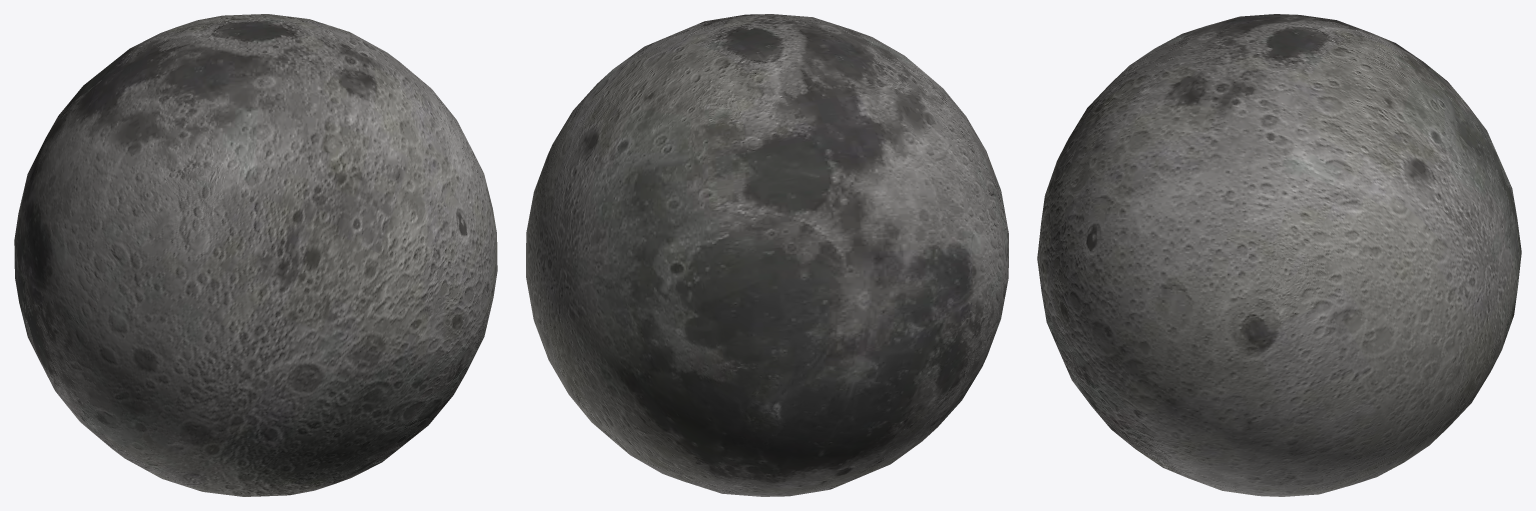
The model's file is moon_planet.glb.
3 views of the same model, side by side, from view 1: azimuth 30°, elevation 25°; view 2: azimuth 150°, elevation 25°; view 3: azimuth 270°, elevation 25° (orthographic).
Parts seen in each view (by area): view 1: Moon; view 2: Moon; view 3: Moon.
Part boxes in pixels (box(x1,y1,x2,y2)): Moon: box(14, 14, 497, 496); Moon: box(526, 14, 1008, 496); Moon: box(1037, 14, 1521, 496).
Bounding box in the file's own units: 3.48 × 3.48 × 3.49.
Materials: 1 (1 with a texture image).
